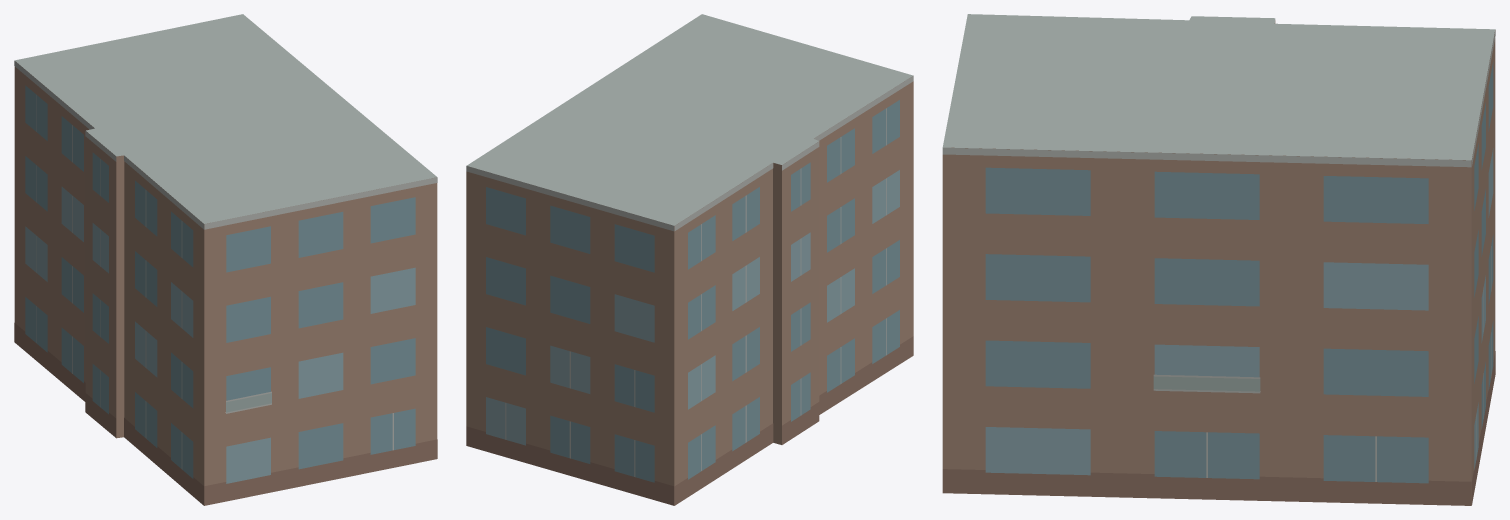
The model's file is survey-upis-32808417.glb.
3 renders of one model, left to right at view 1: azimuth 30°, elevation 25°; view 2: azimuth 150°, elevation 25°; view 3: azimuth 270°, elevation 25°, orthographic. The views are drawn at different scales.
Parts seen in each view (by area): view 1: survey-upis-32808417.tmp; view 2: survey-upis-32808417.tmp; view 3: survey-upis-32808417.tmp.
Part boxes in pixels (box(x1,y1,x2,y2)): survey-upis-32808417.tmp: box(14, 14, 437, 505); survey-upis-32808417.tmp: box(466, 14, 913, 505); survey-upis-32808417.tmp: box(942, 14, 1495, 505).
Size of the model in its own units: 10.95 by 12.05 by 17.48.
